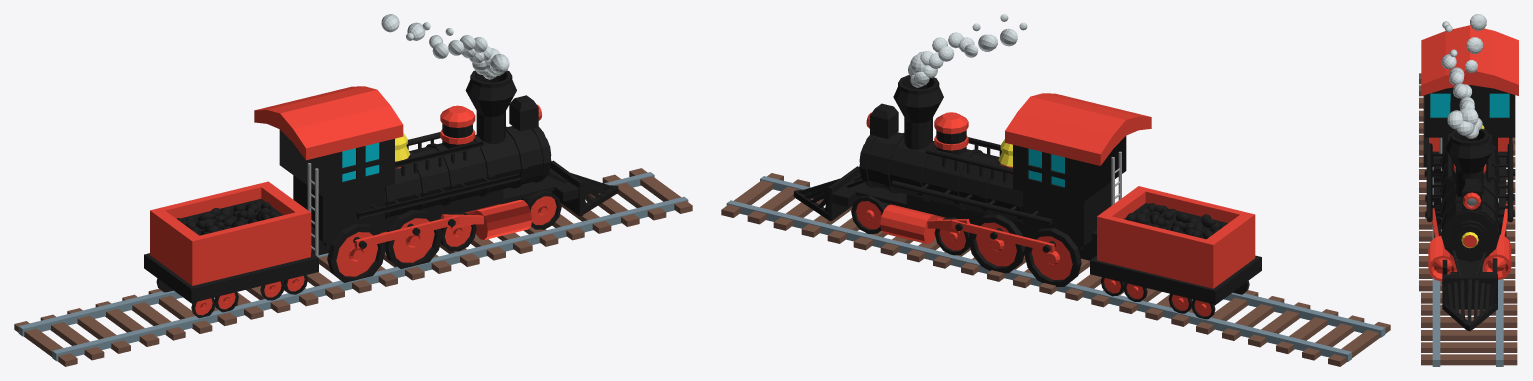
Rendered from 8si3z2CBUuc.glb.
3 renders of one model, left to right at view 1: azimuth 30°, elevation 25°; view 2: azimuth 150°, elevation 25°; view 3: azimuth 270°, elevation 25°, orthographic. The views are drawn at different scales.
Visible parts, largest first — view 1: Node; view 2: Node; view 3: Node.
Boxes of the visible parts, box(x1,y1,x2,y2) form: Node: box(14, 14, 692, 366); Node: box(721, 14, 1390, 366); Node: box(1419, 14, 1518, 366).
Bounding box in the file's own units: 3.57 × 1.31 × 0.5189.
